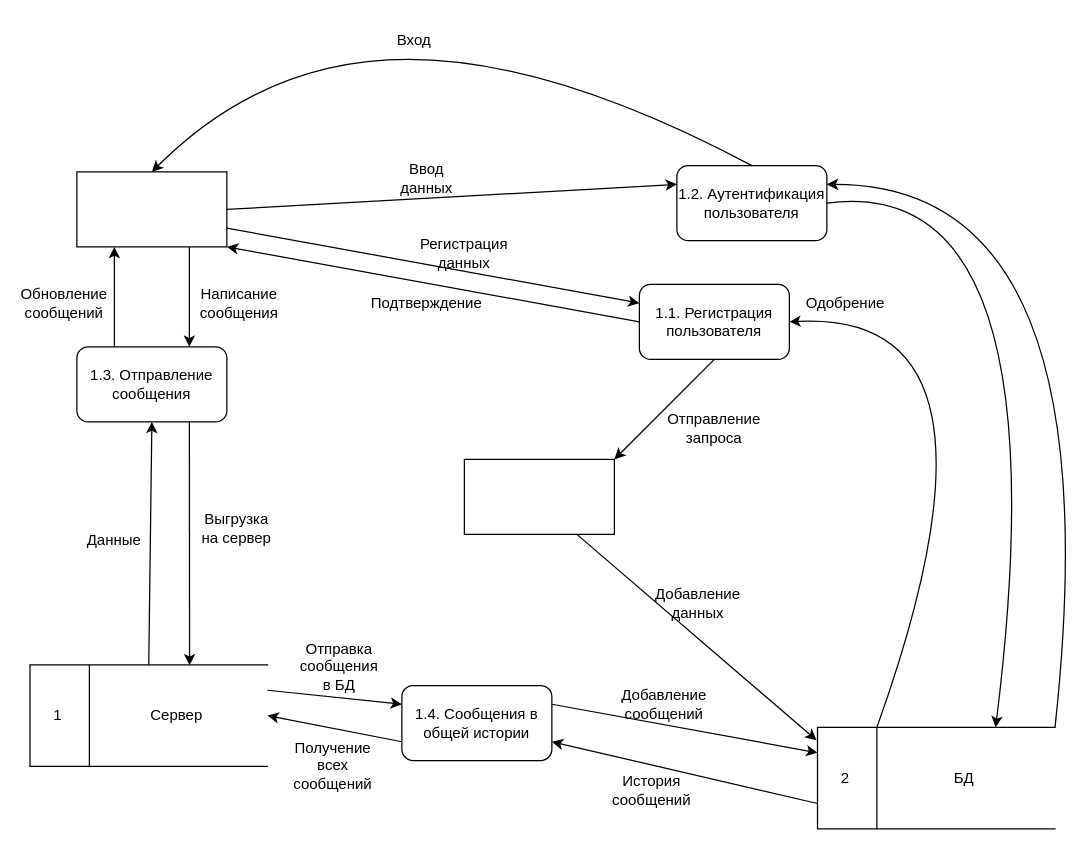
The diagram is 1088 pixels wide and 853 high, and some of its shapes have lost their labels. The centre of each missing label's shape, as x and y in pixels:
"Администратор" belongs at (x=538, y=496).
"Пользователь" belongs at (x=151, y=209).
